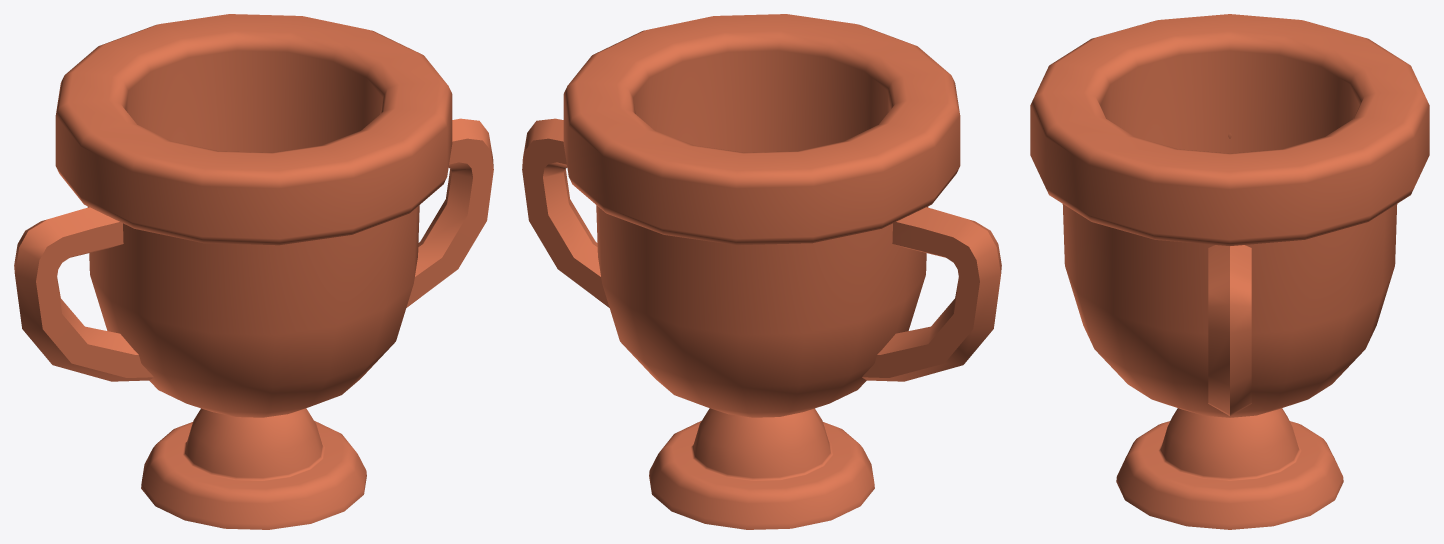
The picture shows the model from 3 angles, left to right: view 1: azimuth 30°, elevation 25°; view 2: azimuth 150°, elevation 25°; view 3: azimuth 270°, elevation 25°; orthographic projection.
Parts seen in each view (by area): view 1: model_0.062; view 2: model_0.062; view 3: model_0.062.
Part boxes in pixels (x1,y1,x2,y2): model_0.062: [14, 14, 493, 529]; model_0.062: [522, 14, 1001, 529]; model_0.062: [1030, 14, 1429, 529].
Size of the model in its own units: 4.48 by 3.52 by 3.25.
